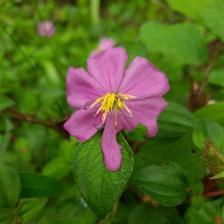malabar melastome: (66, 46, 173, 173)
